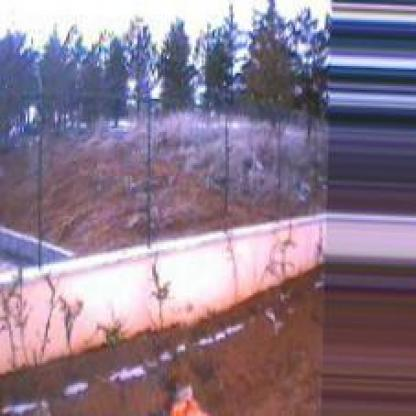fire: (158, 377, 204, 412)
